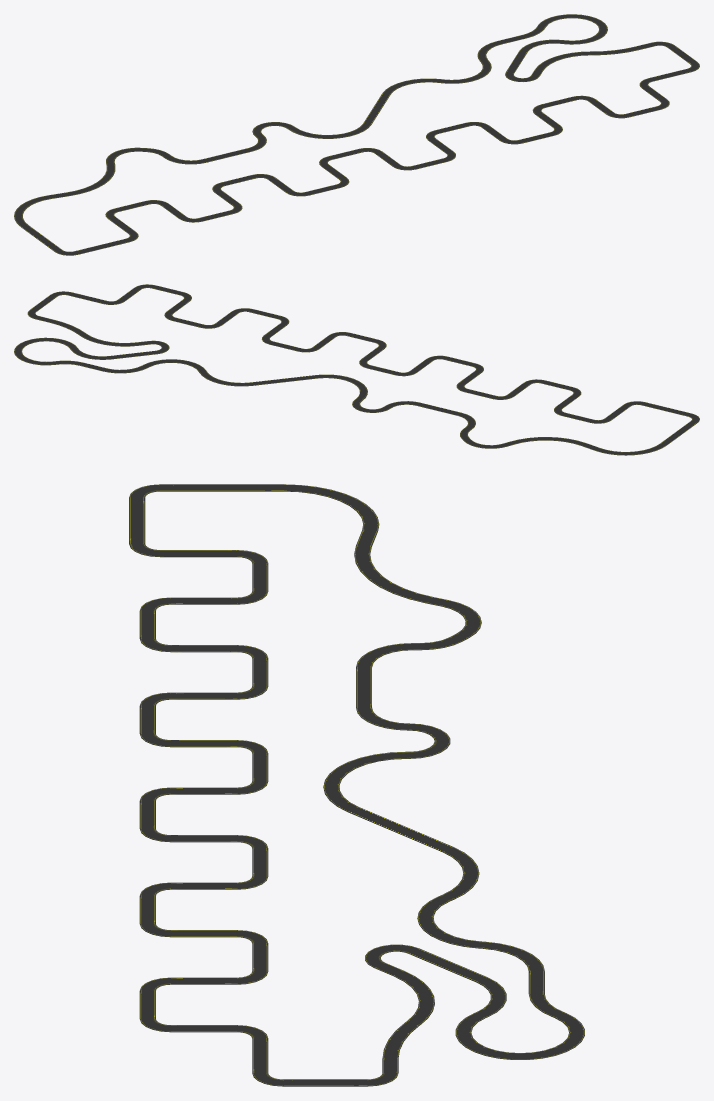
File: track.dae
3 renders of one model, top to bottom at view 1: azimuth 30°, elevation 25°; view 2: azimuth 150°, elevation 25°; view 3: azimuth 270°, elevation 25°, orthographic. The views are drawn at different scales.
Parts seen in each view (by area): view 1: Track; view 2: Track; view 3: Track.
Part boxes in pixels (x1,y1,x2,y2): Track: (14, 14, 699, 255); Track: (14, 284, 699, 455); Track: (129, 484, 584, 1086).
Bounding box in the file's own units: 266 × 85.14 × 0.075.
1 material, 1 textured.
